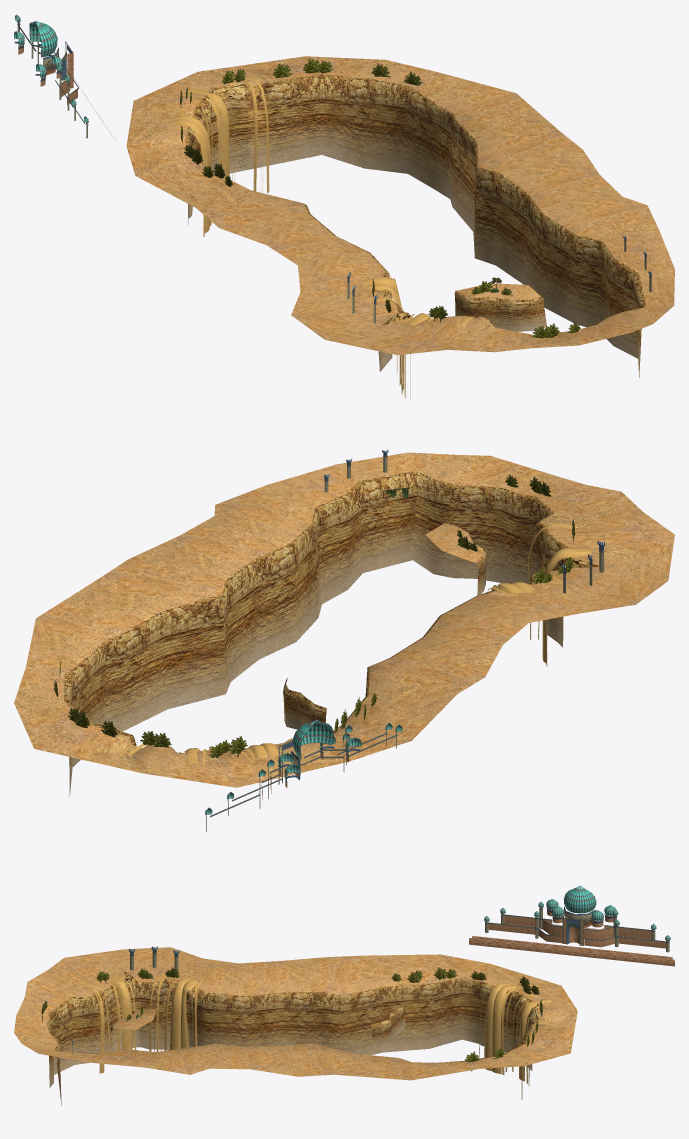
The model's file is Act2Environment.gltf.
3 views of the same model, one above another, from view 1: azimuth 30°, elevation 25°; view 2: azimuth 150°, elevation 25°; view 3: azimuth 270°, elevation 25° (orthographic). The views are drawn at different scales.
Visible parts, largest first — view 1: Global, SideB, SideA, SandFallSolid.004; view 2: Global, SideA, SideB; view 3: Global, SideA, SideB, SandFallSolid.002, SandFallSolid.005, SandFallSolid, SandFallSolid.006, SandFallSolid.004, SandFallFaded.001.
Boxes of the visible parts, x1=… form: Global: x1=126, y1=56, x2=674, y2=394; SideB: x1=347, y1=235, x2=651, y2=338; SideA: x1=14, y1=14, x2=422, y2=186; SandFallSolid.004: x1=188, y1=88, x2=229, y2=177; Global: x1=14, y1=452, x2=674, y2=796; SideA: x1=53, y1=661, x2=402, y2=831; SideB: x1=323, y1=449, x2=605, y2=595; Global: x1=14, y1=947, x2=577, y2=1105; SideA: x1=370, y1=885, x2=674, y2=1071; SideB: x1=41, y1=946, x2=179, y2=1054; SandFallSolid.002: x1=170, y1=978, x2=189, y2=1049; SandFallSolid.005: x1=492, y1=985, x2=516, y2=1074; SandFallSolid: x1=110, y1=976, x2=132, y2=1049; SandFallSolid.006: x1=484, y1=982, x2=510, y2=1070; SandFallSolid.004: x1=519, y1=999, x2=551, y2=1081; SandFallFaded.001: x1=81, y1=985, x2=104, y2=1073.
Bounding box in the file's own units: 306 × 148 × 605.
Materials: 17 (17 with a texture image).
